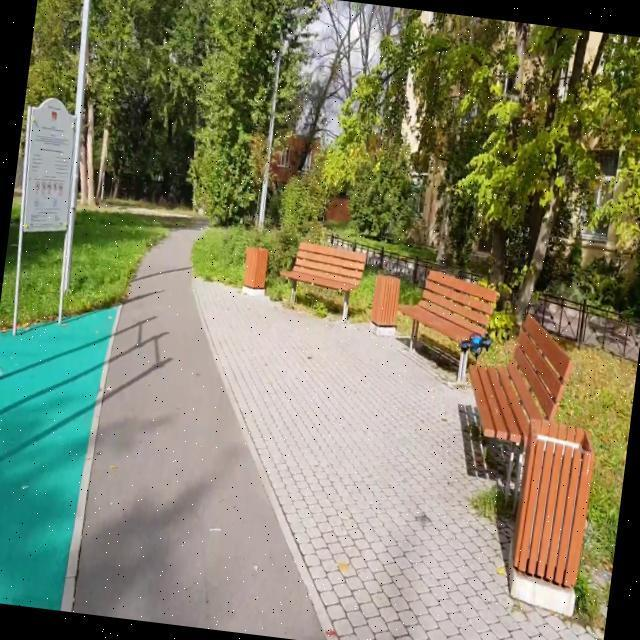Drons: (456, 328, 494, 363)
